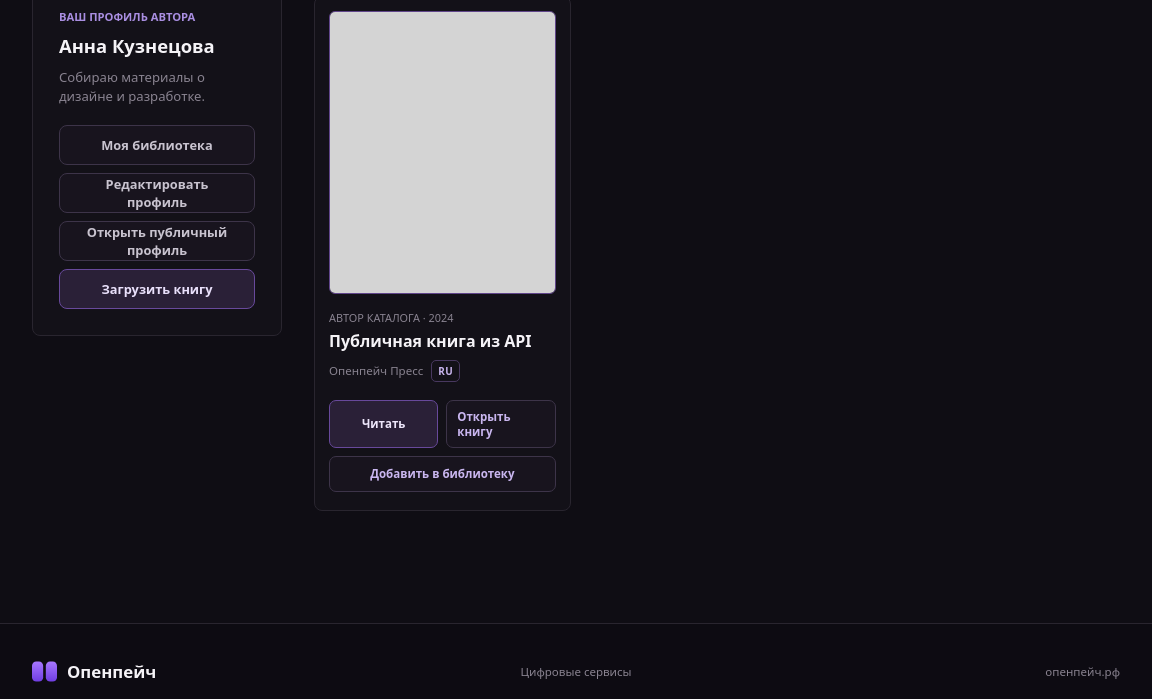
it: KnowledgePage › оставляет каталог рабочим при ошибке добавления
The width and height of the screenshot is (1152, 699).
(page scrolled)
Click the button "Добавить в библиотеку": (442, 474) [329,456,556,492]
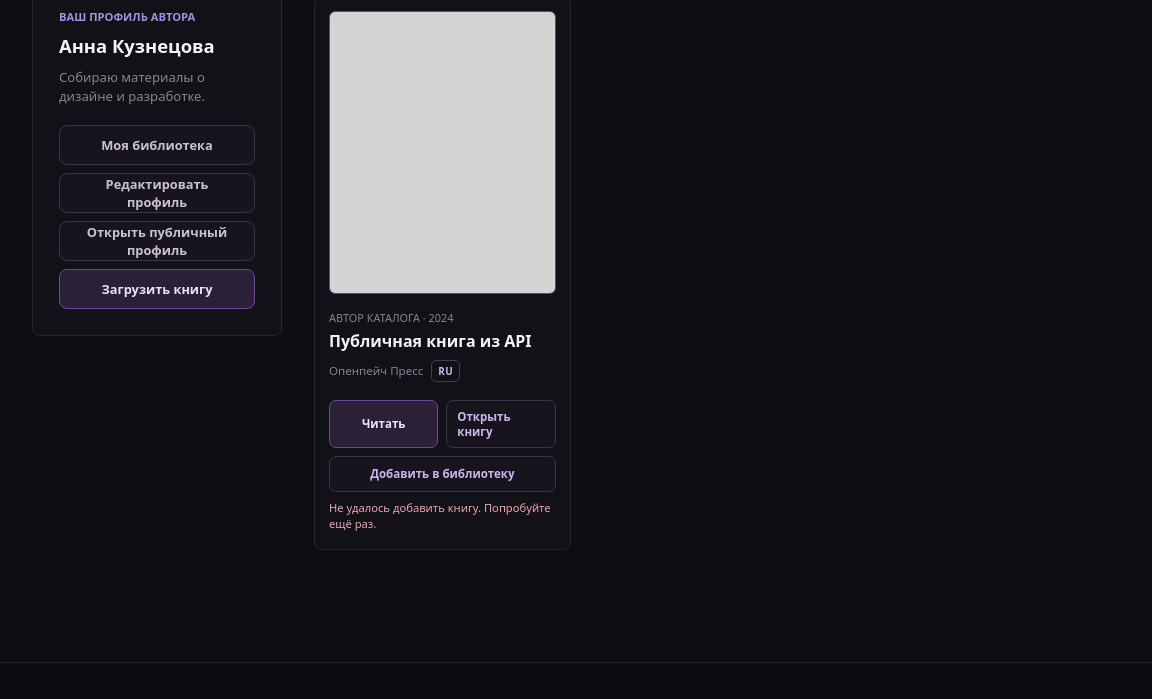
Expected: the heading "Публичная книга из API" is shown, [329,331,556,352]
Expected: the message reads "Не удалось добавить книгу. Попробуйте ещё раз.", [329,500,551,531]
